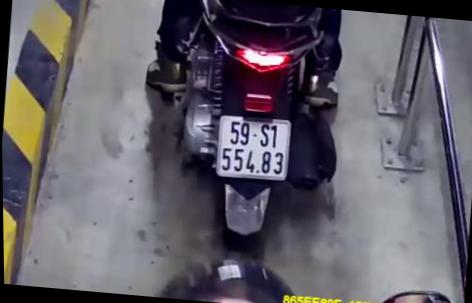LP: (212, 112, 293, 182)
